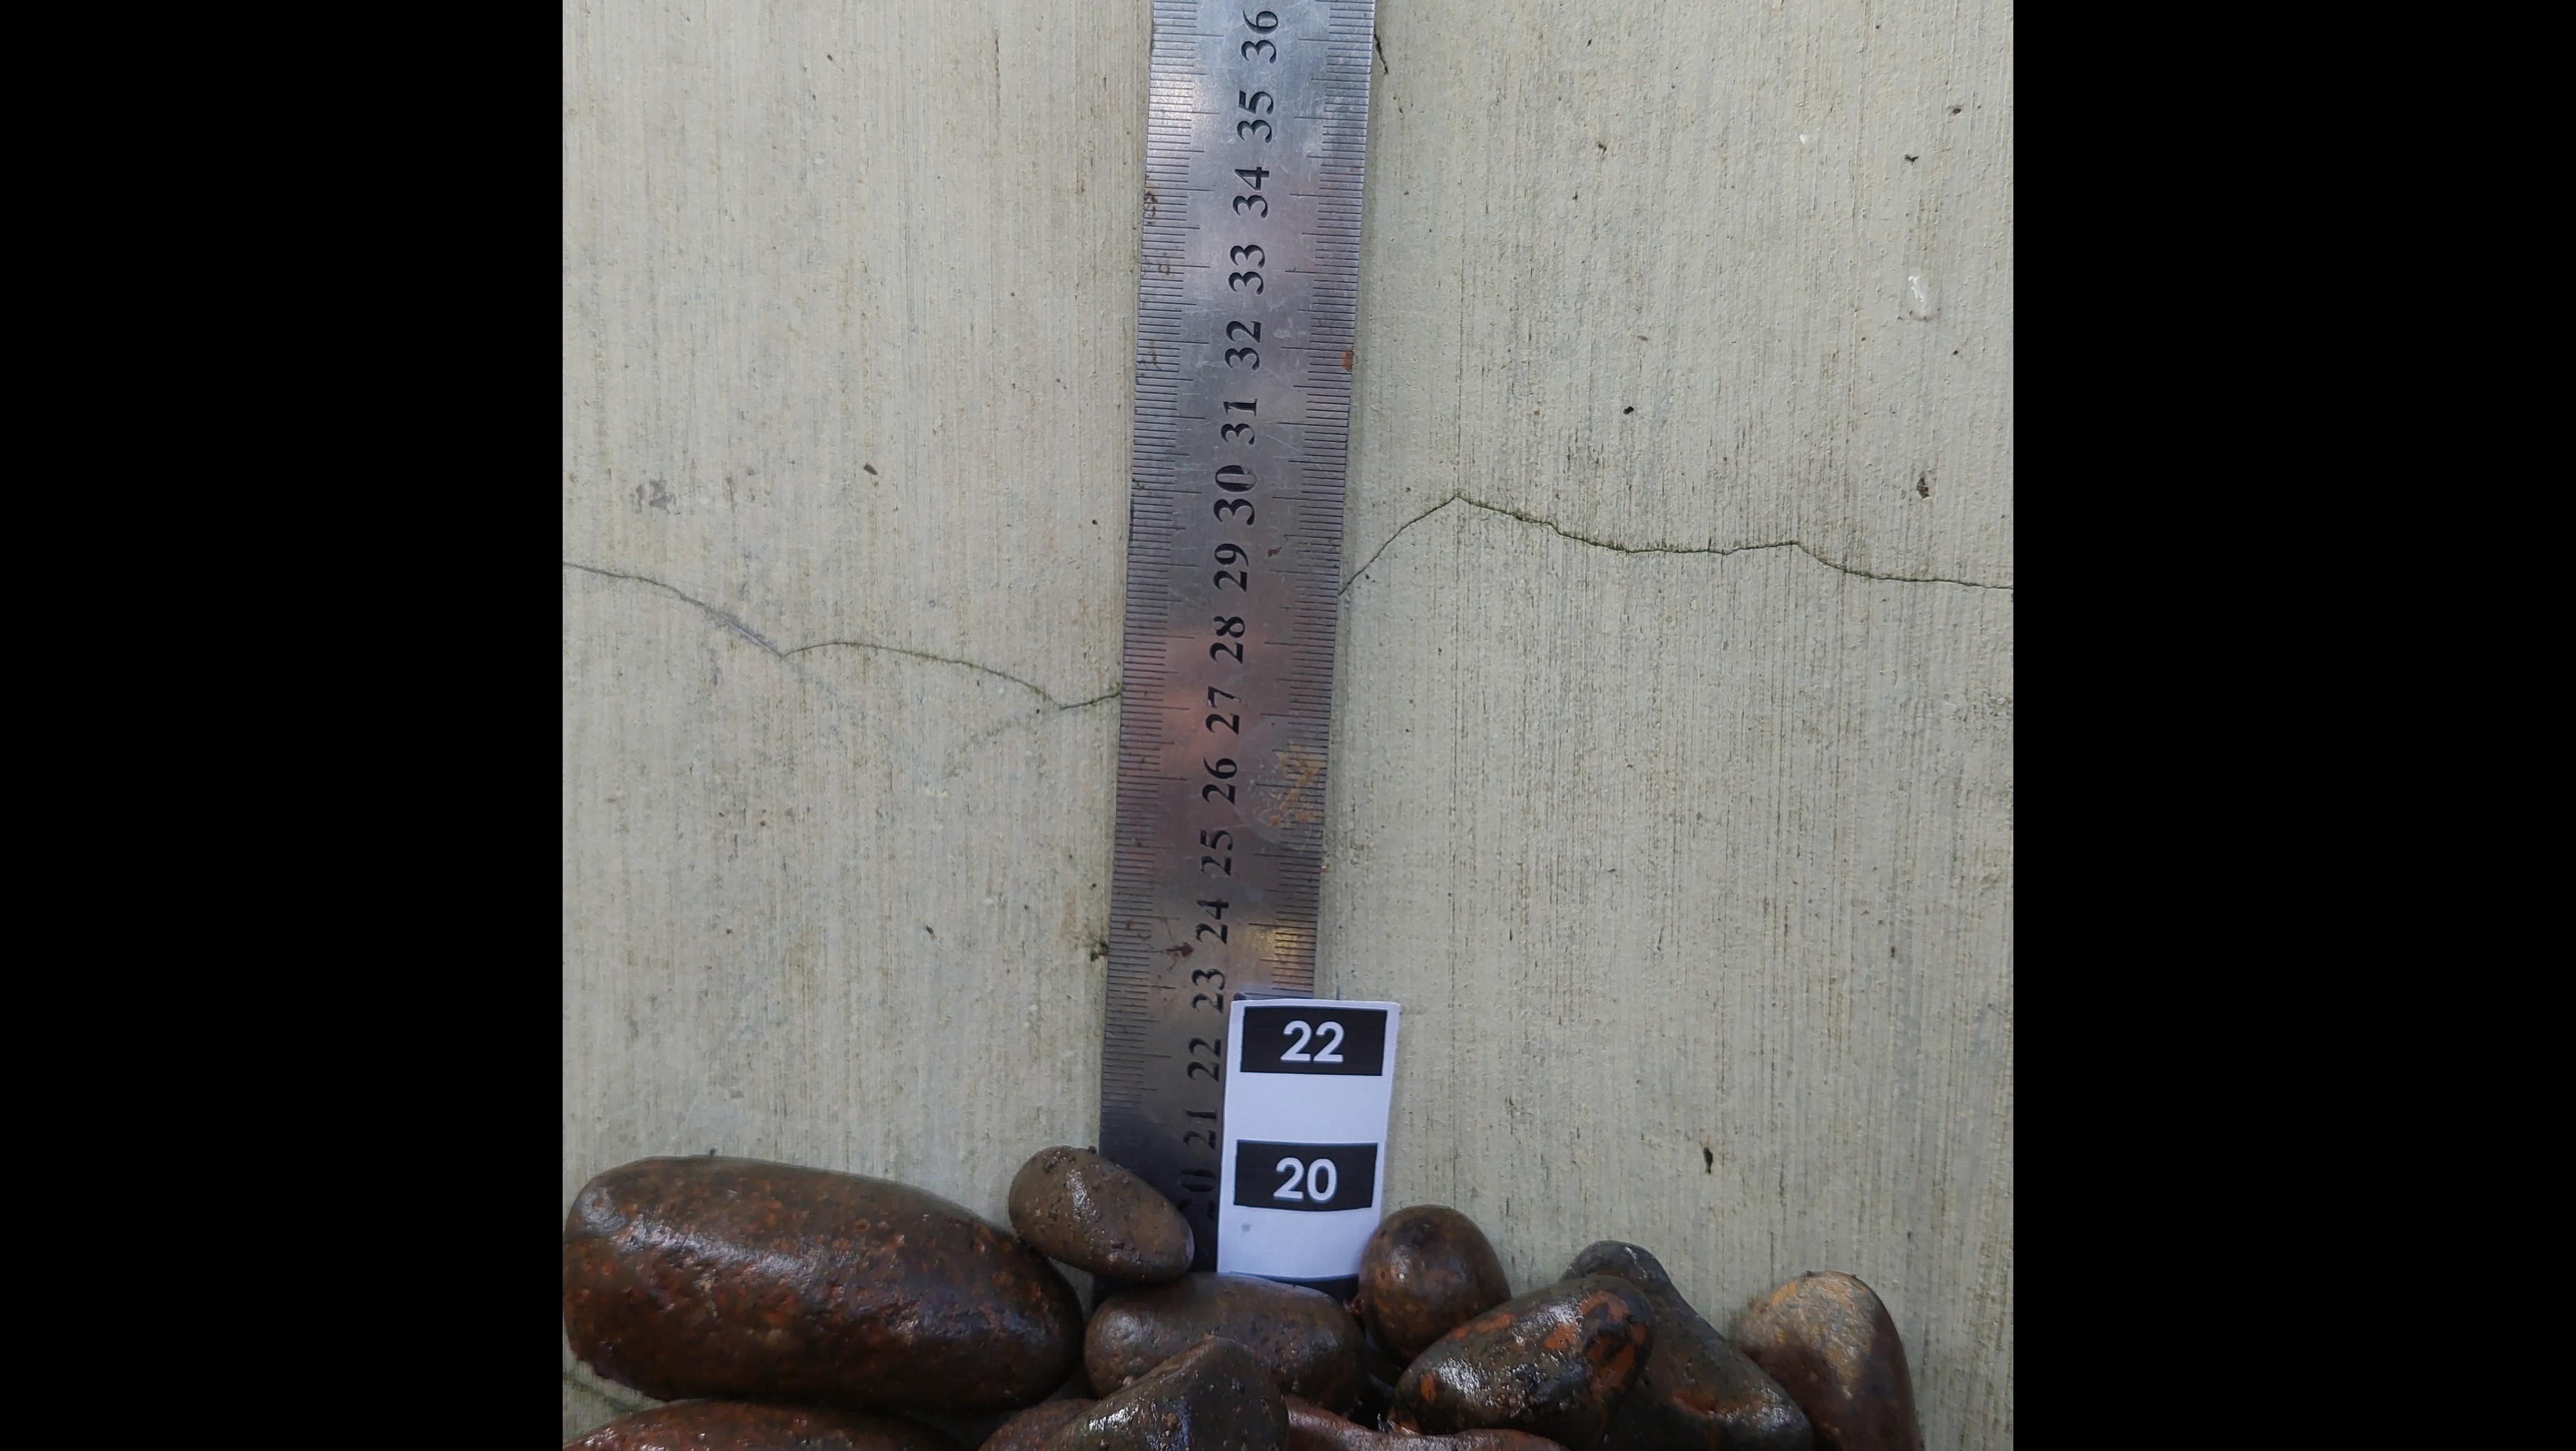kotak_2x1: (1242, 1005, 1384, 1076), (1235, 1141, 1375, 1210)
